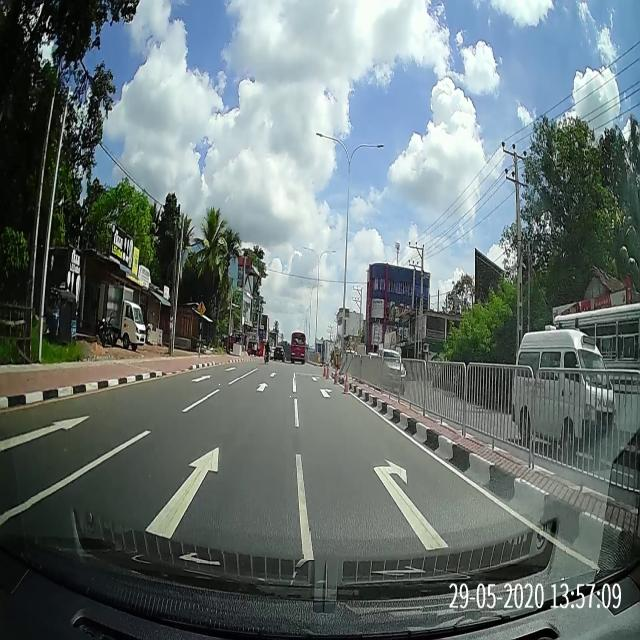forward: (32, 429, 310, 554), (207, 379, 295, 398)
